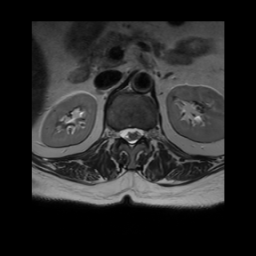CCS_normal: (128, 120, 135, 152)
LFS_normal: (142, 122, 150, 145)
LLS_normal: (135, 120, 143, 145)
RFS_normal: (113, 122, 120, 145)
RLS_normal: (119, 122, 128, 144)
